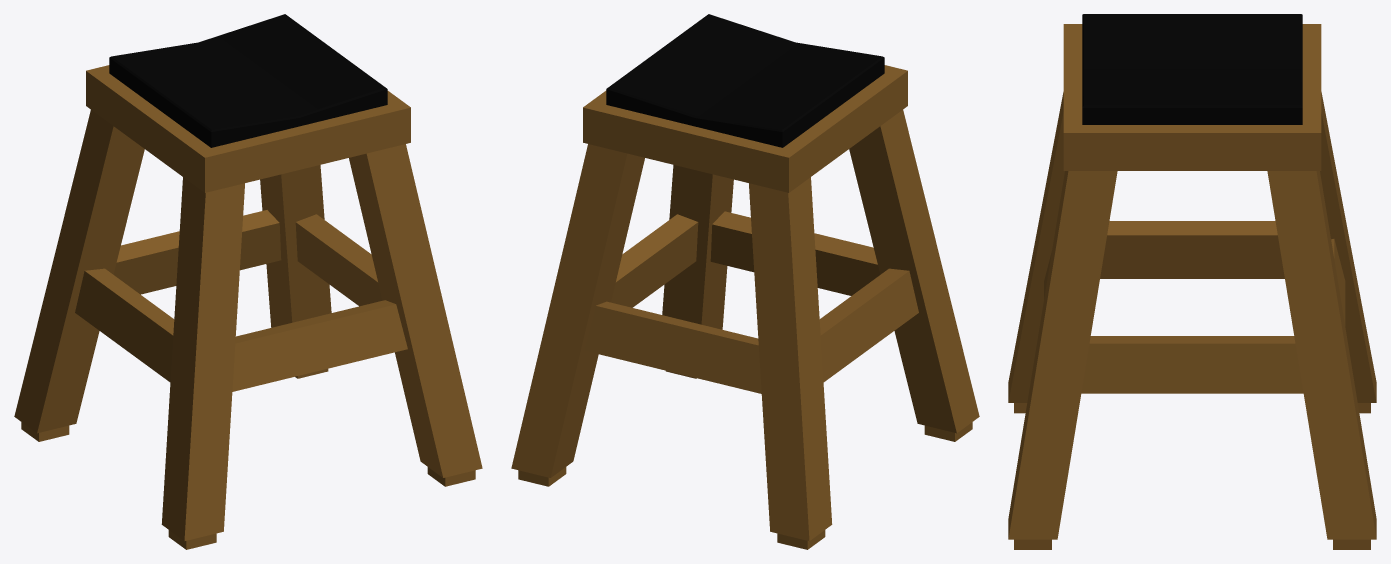
Rendered from barstool.fbx.
3 renders of one model, left to right at view 1: azimuth 30°, elevation 25°; view 2: azimuth 150°, elevation 25°; view 3: azimuth 270°, elevation 25°, orthographic. The views are drawn at different scales.
Visible parts, largest first — view 1: group11_pCube24, pCube16; view 2: group11_pCube24, pCube16; view 3: group11_pCube24, pCube16.
Boxes of the visible parts, x1=… form: group11_pCube24: x1=14, y1=65, x2=482, y2=549; pCube16: x1=109, y1=14, x2=387, y2=147; group11_pCube24: x1=511, y1=65, x2=979, y2=549; pCube16: x1=606, y1=14, x2=884, y2=147; group11_pCube24: x1=1008, y1=24, x2=1376, y2=549; pCube16: x1=1082, y1=14, x2=1302, y2=124.
Size of the model in its own units: 7.13 by 8.74 by 7.05.
